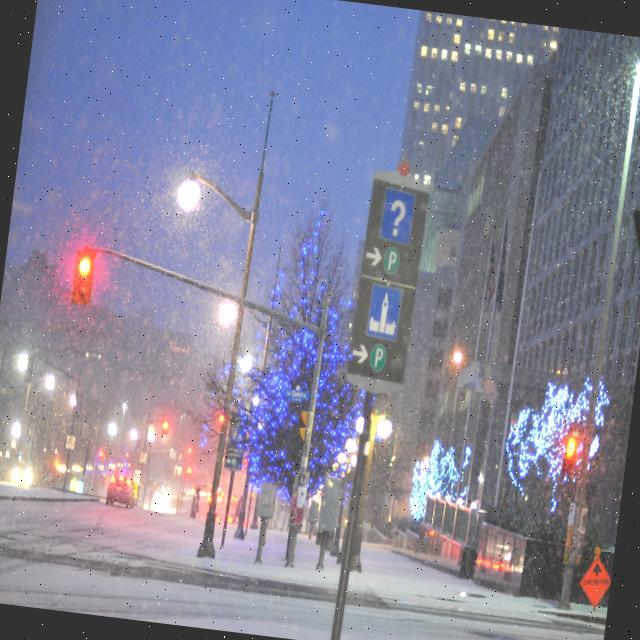fire_hydrant: (314, 529, 328, 570)
